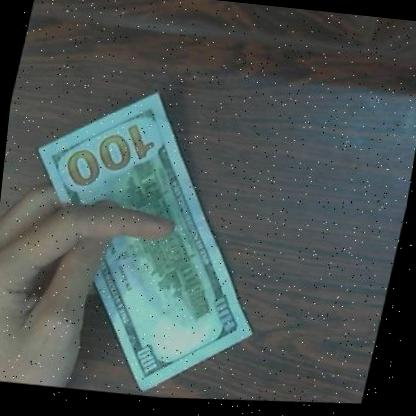dollar_back: (0, 58, 312, 416)
